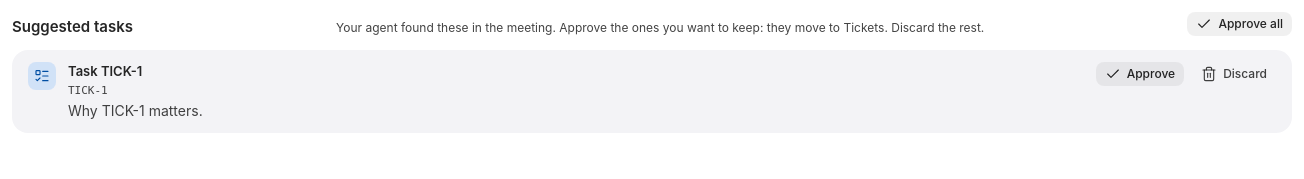
Scenario: MeetingTasks › a failed approve shows its error under the row and keeps the buttons
Click the button with aria-label "Approve TICK-1".
click(1140, 74)  # box [1096,62,1184,86]
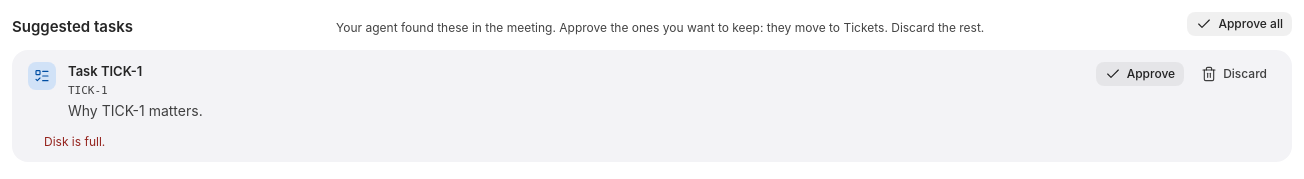
Expected: the message reads "Disk is full.", [44,134,105,149]
